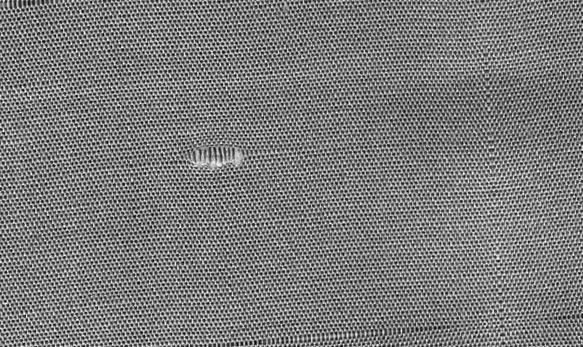slub: (182, 143, 246, 170)
